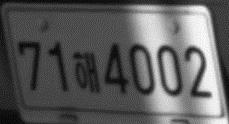0: (155, 44, 183, 96), (128, 43, 155, 95)
1: (43, 39, 75, 94)
2: (182, 45, 213, 99)
4: (101, 42, 130, 94)
7: (16, 39, 43, 92)
해: (71, 49, 102, 95)
